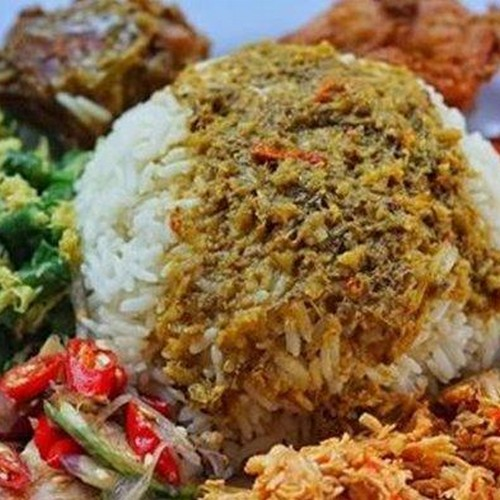nasi campur bali: (6, 13, 498, 491)
